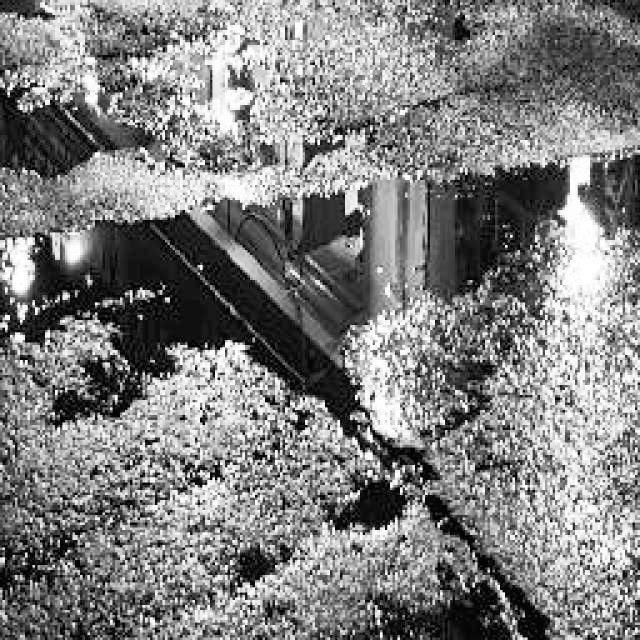Pothole: (0, 152, 638, 440), (0, 8, 338, 182)
